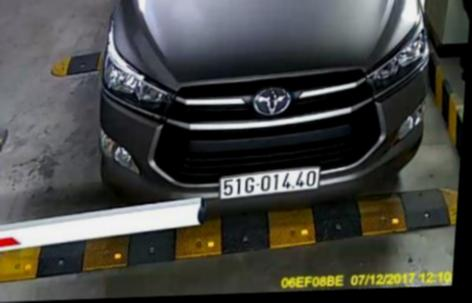License_Plate: (208, 159, 333, 206)
